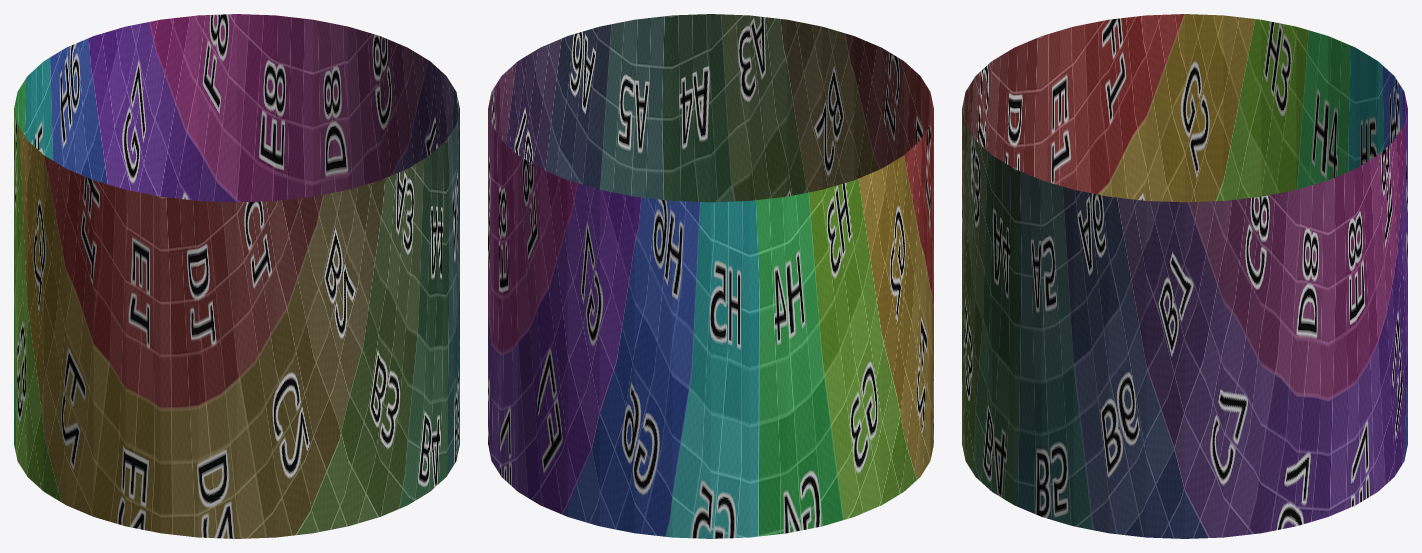
File: SkyBase.gltf
The picture shows the model from 3 angles, left to right: view 1: azimuth 30°, elevation 25°; view 2: azimuth 150°, elevation 25°; view 3: azimuth 270°, elevation 25°; orthographic projection.
Visible parts, largest first — view 1: SkyBase; view 2: SkyBase; view 3: SkyBase.
Part boxes in pixels (<box>): SkyBase: <box>14,14,459,538</box>; SkyBase: <box>488,14,933,538</box>; SkyBase: <box>962,14,1407,538</box>.
Size of the model in its own units: 120 by 100 by 120.
1 material, 1 textured.
